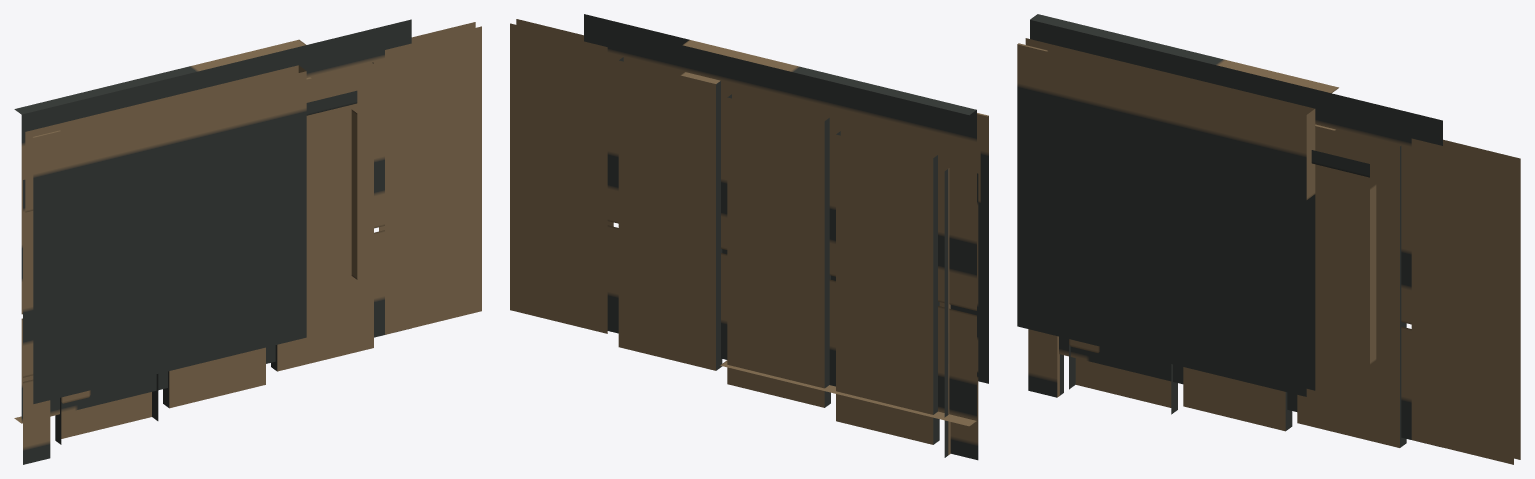
File: section-5.obj
3 renders of one model, left to right at view 1: azimuth 30°, elevation 25°; view 2: azimuth 150°, elevation 25°; view 3: azimuth 330°, elevation 25°, orthographic. The views are drawn at different scales.
Bounding box in the file's own units: 1.06 × 0.7685 × 0.0771.
